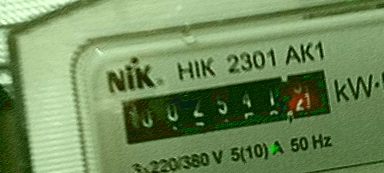0: (135, 102, 156, 131), (162, 96, 180, 125)
1: (261, 80, 277, 109)
2: (186, 92, 205, 119)
4: (237, 84, 253, 109)
5: (210, 88, 232, 118)
6: (290, 93, 307, 113)
screen: (106, 54, 346, 157)
